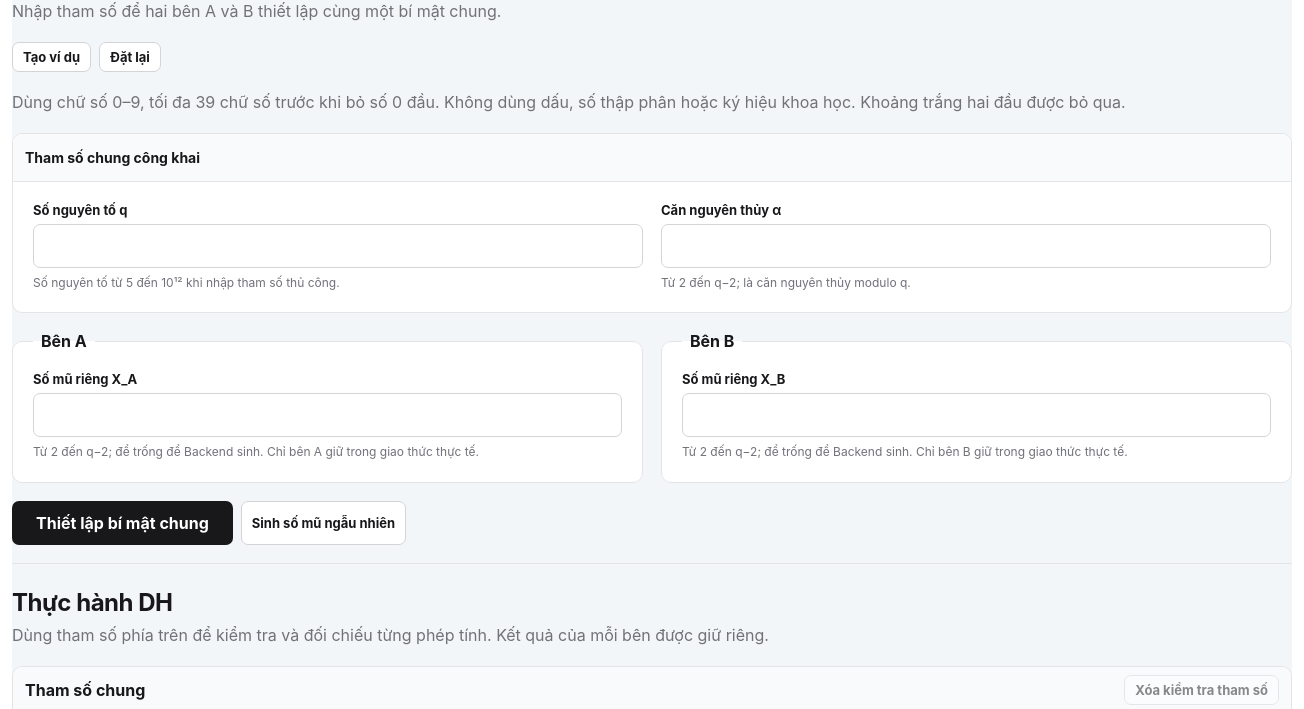
Test: linked DH practice and Caesar › is visible without disclosure, shares main inputs and requires explicit alpha suggestion
Type "23" into the field labelled "Số nguyên tố q" at (338, 246), box [33,224,643,268]
(page scrolled)
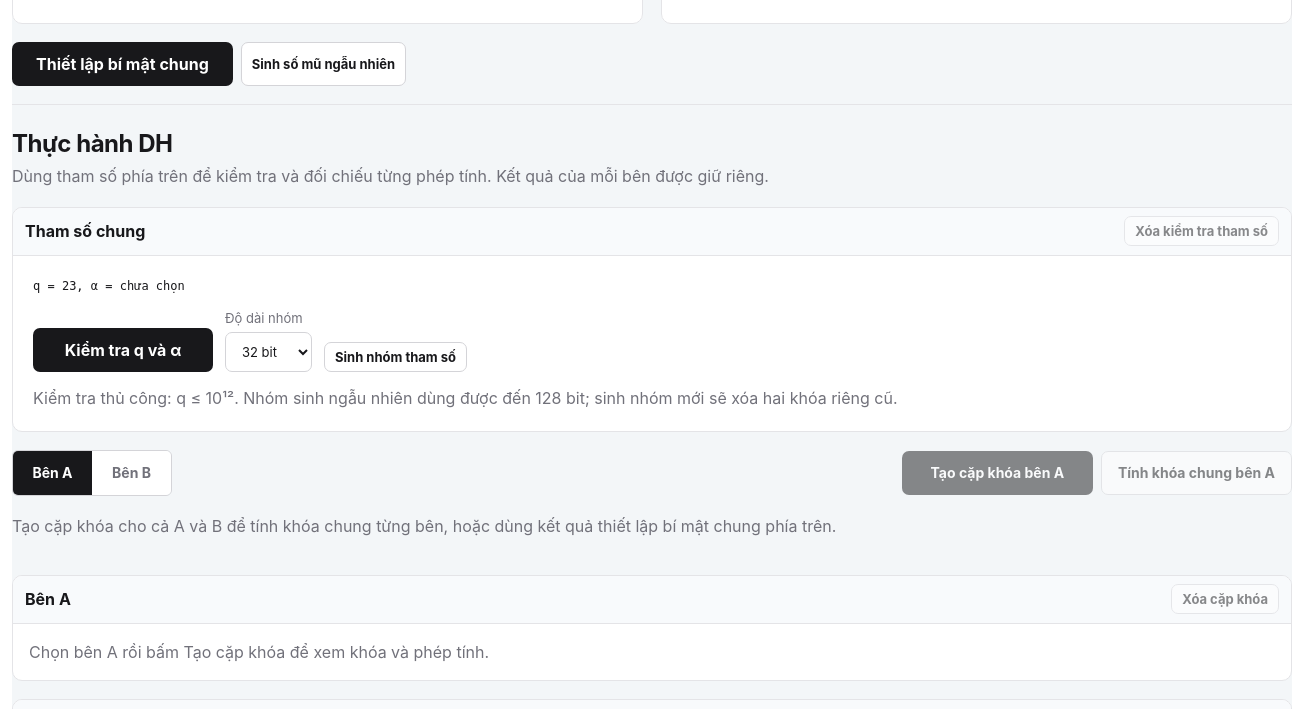
Click the button "Kiểm tra q và α" at (123, 350), box [33,328,213,372]
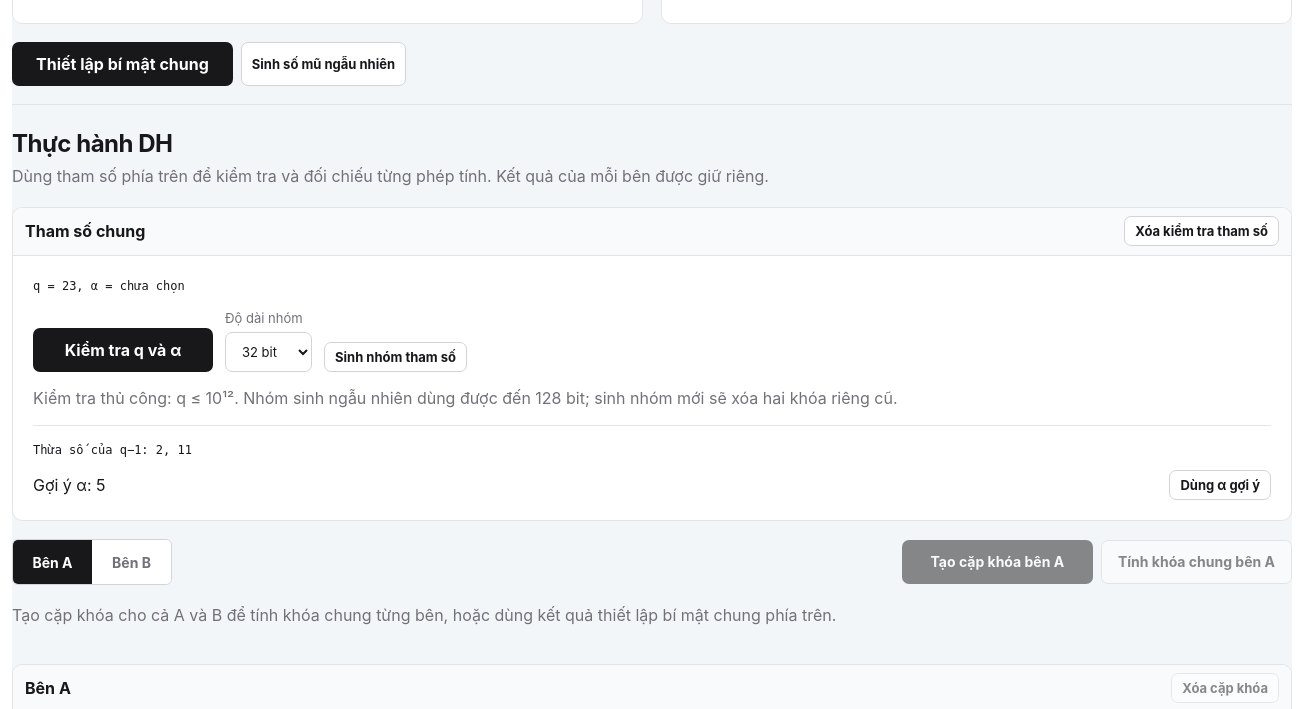
Now the text "Gợi ý α: 5" is shown, box [33,475,106,495]
Click the button "Dùng α gợi ý" at (1220, 485), box [1169,470,1271,500]
(page scrolled)
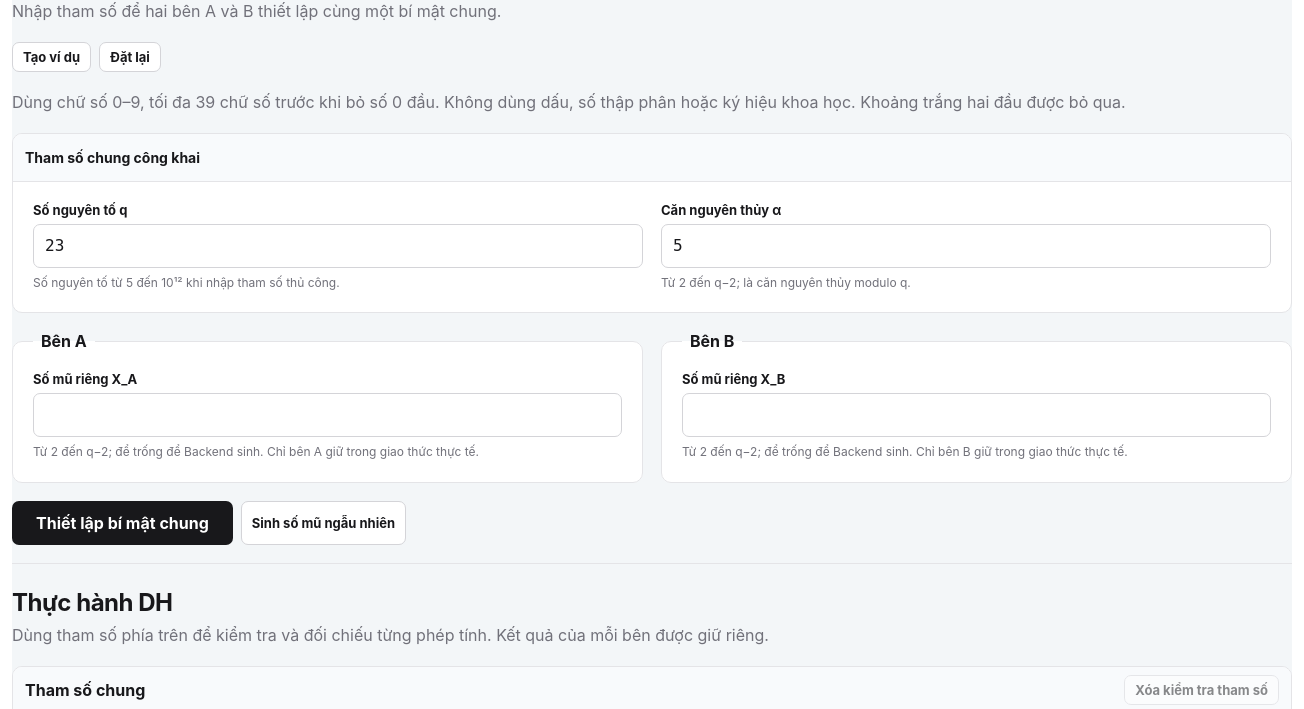
Now the field labelled "Căn nguyên thủy α" holds "5", box [661,224,1271,268]
